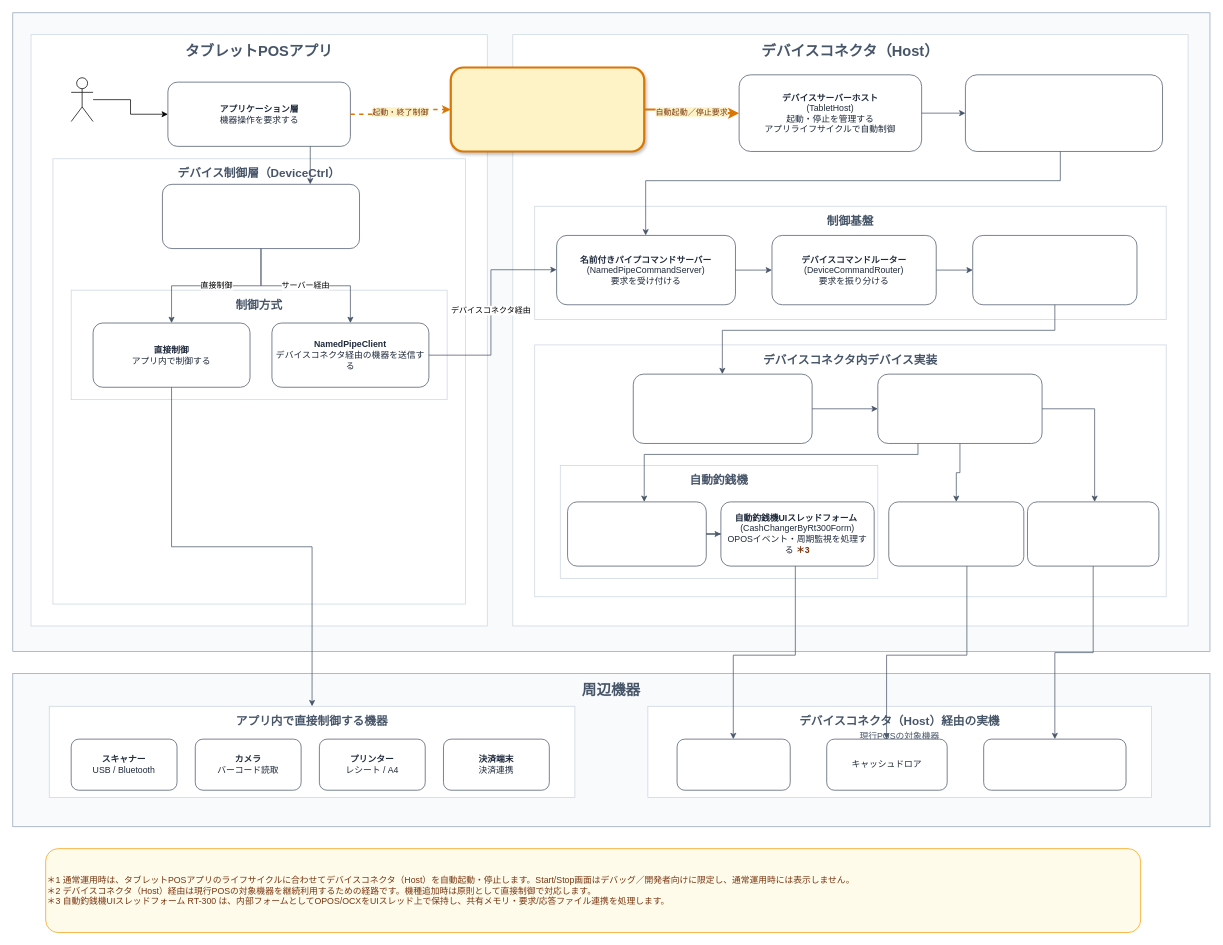
The diagram is 1223 pixels wide and 945 high, and some of its shapes have lost their labels. The centre of each missing label's shape, as x and y in pixels:
"Actor" belongs at point (81, 99).
"DeviceManager / Config / Factory 機器ごとの制御方式を決定する" belongs at point (261, 216).
"カスタマーディスプレイ" belongs at point (1054, 764).
"カスタマーディスプレイ制御 SHARP (CustomerDisplayBySharp) SHARP既存実装を利用" belongs at point (1093, 533).
"キャッシュドロア制御 SHARP (CashDrawerBySharp) SHARP既存実装を利用" belongs at point (956, 533).
"デバイスコマンドハンドラー (DeviceCommandHandler) 機器操作を実行する" belongs at point (1054, 270).
"デバイスベース (DeviceBase) 共通処理を提供する" belongs at point (959, 408).
"デバイスマネージャー (TabletDeviceManager) 対象機器を呼び出す" belongs at point (722, 408).
"名前付きパイプデバイスホストアダプター (NamedPipeDeviceHostAdapter) 通信を管理する" belongs at point (1064, 112).
"通常運用時のライフサイクル連携 起動・画面作成・復帰：サーバー自動起動 停止・終了：Killでサーバー停止 Start/Stop画面：デバッグ用途のみ" belongs at point (547, 110).
"釣銭機" belongs at point (733, 764).
"釣銭機制御 RT-300 (CashChangerByRt300) 既存実装を継続利用" belongs at point (636, 533).
